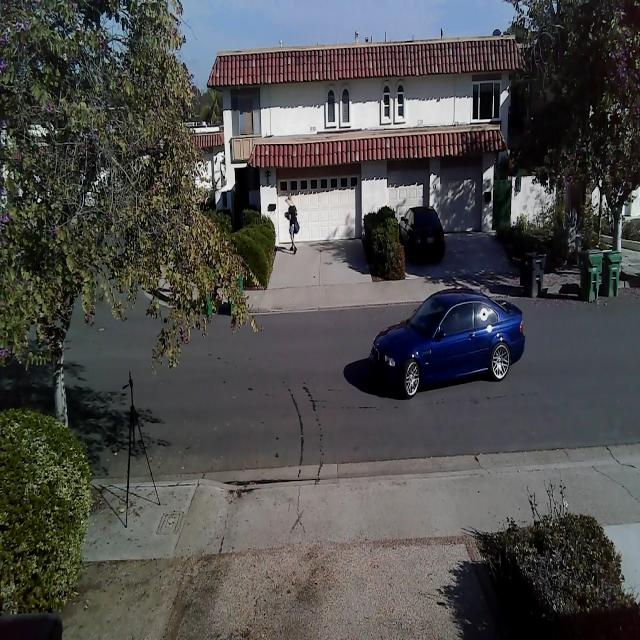Carbeetle: (368, 284, 535, 402)
Civilian: (399, 205, 445, 263)
